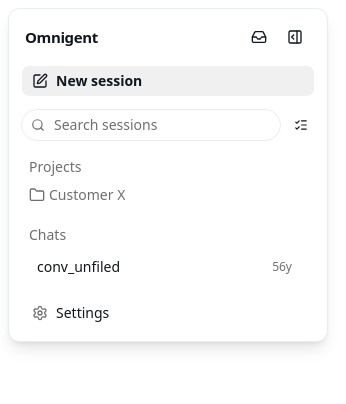
Test: Sidebar project sections › groups sessions by their project label, separate from Chats
Expected: the text "conv_unfiled" is shown, [37,257,120,277]
Expected: the text "conv_filed" is not shown
// Expanding the project reveals its session under the project section.
Step 1. Click the button "Customer X" → {"x": 87, "y": 194}, box [21,181,300,209]
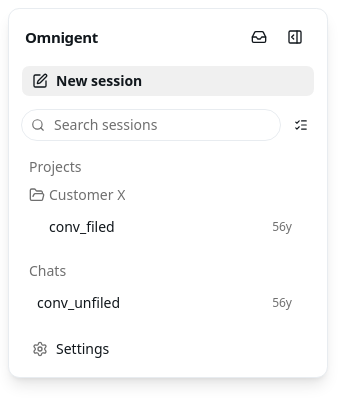
Expected: the text "conv_filed" is shown, [49,217,115,237]
